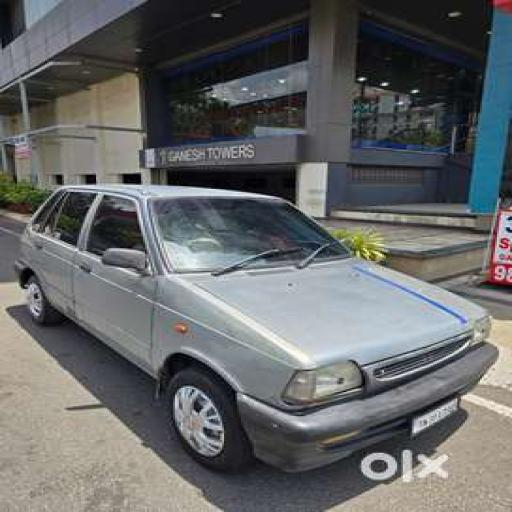License: (400, 394, 465, 434)
